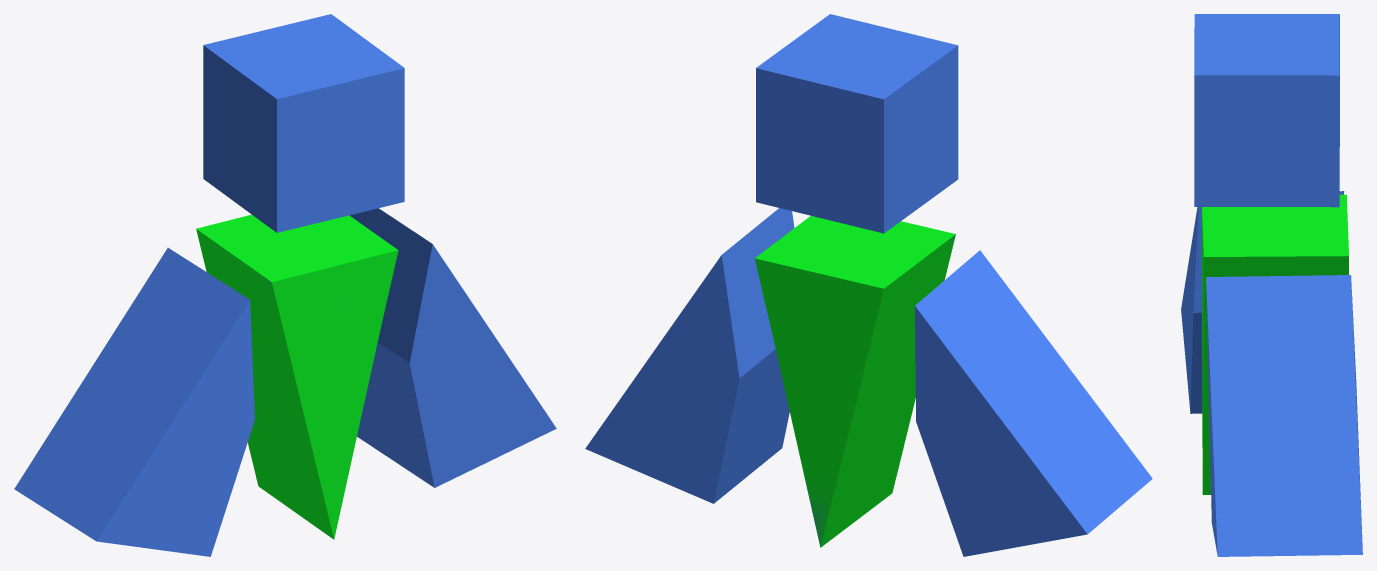
File: player.obj
The picture shows the model from 3 angles, left to right: view 1: azimuth 30°, elevation 25°; view 2: azimuth 150°, elevation 25°; view 3: azimuth 270°, elevation 25°; orthographic projection.
Visible parts, largest first — view 1: 立方体.002; view 2: 立方体.002; view 3: 立方体.002.
Part boxes in pixels (box(x1,y1,x2,y2)): 立方体.002: box(14, 14, 556, 556); 立方体.002: box(585, 14, 1152, 556); 立方体.002: box(1181, 14, 1362, 556).
Bounding box in the file's own units: 3.06 × 2.75 × 1.01.
